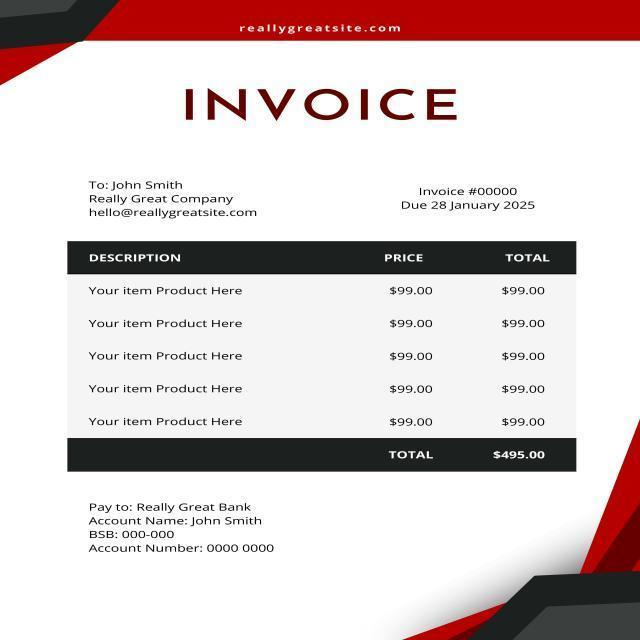ROI: (64, 237, 592, 438), (84, 494, 290, 582), (174, 77, 469, 133), (82, 166, 277, 227), (391, 174, 568, 218), (381, 437, 568, 471), (227, 17, 428, 44)
